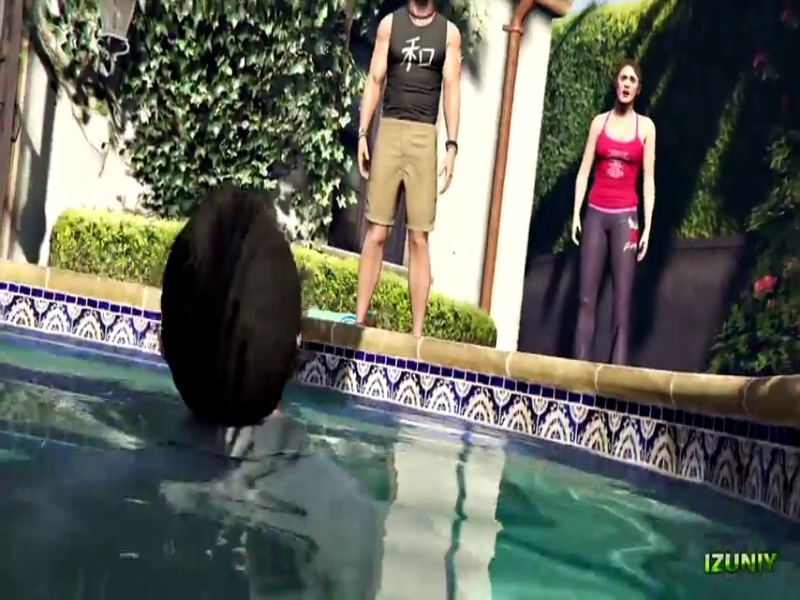human: (547, 35, 664, 385)
